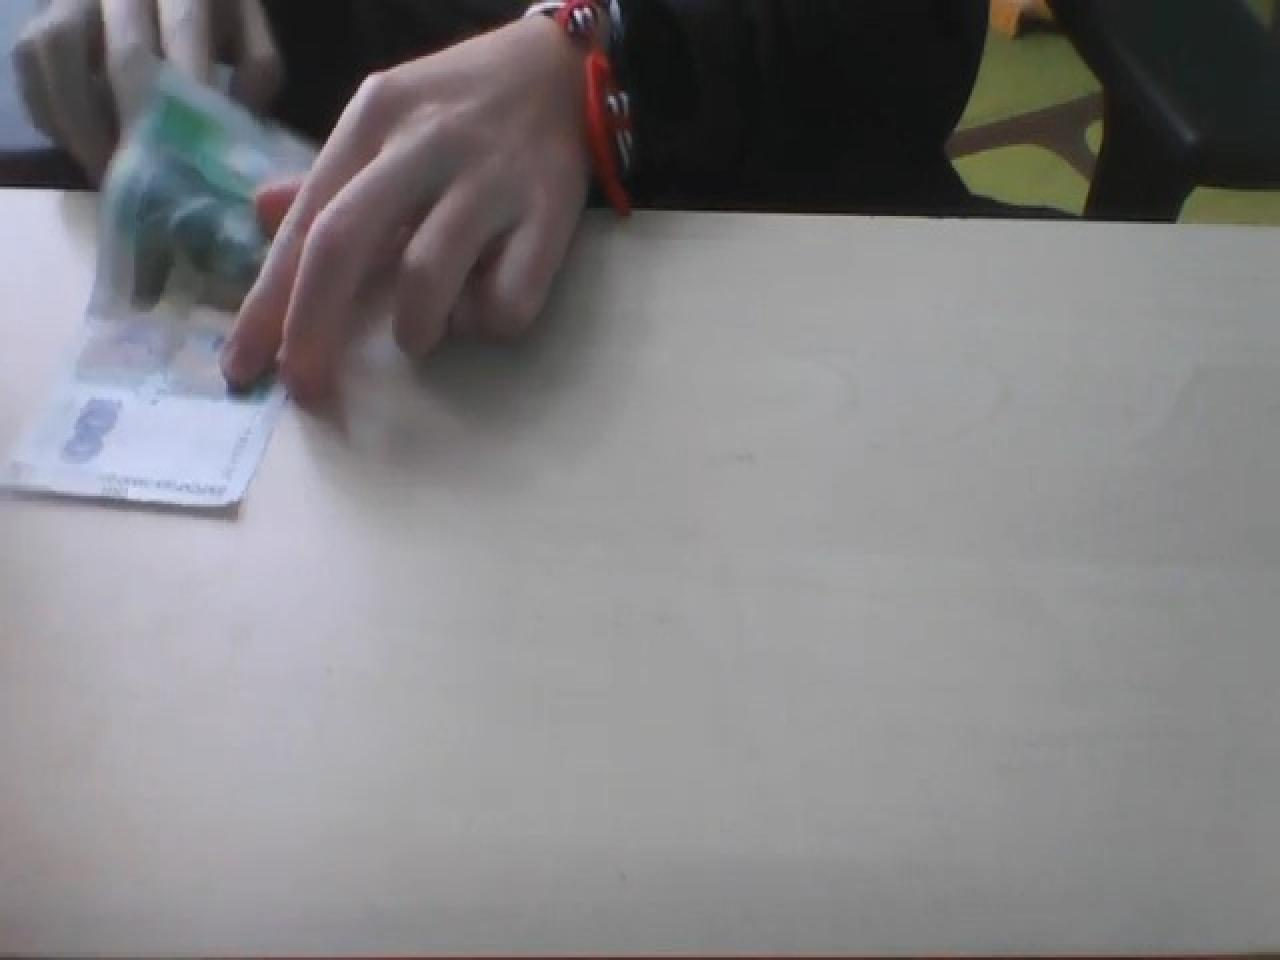100leva: (98, 48, 321, 312)
